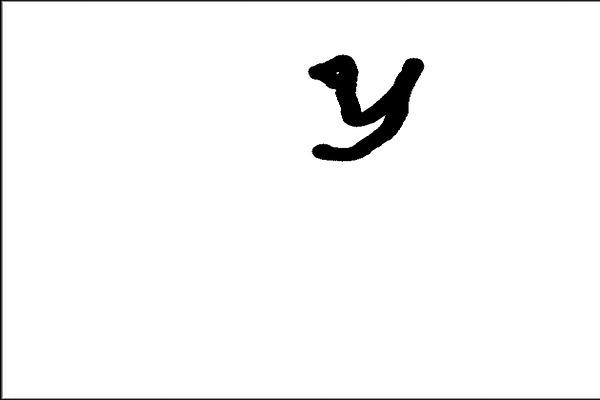Y: (294, 48, 437, 169)
